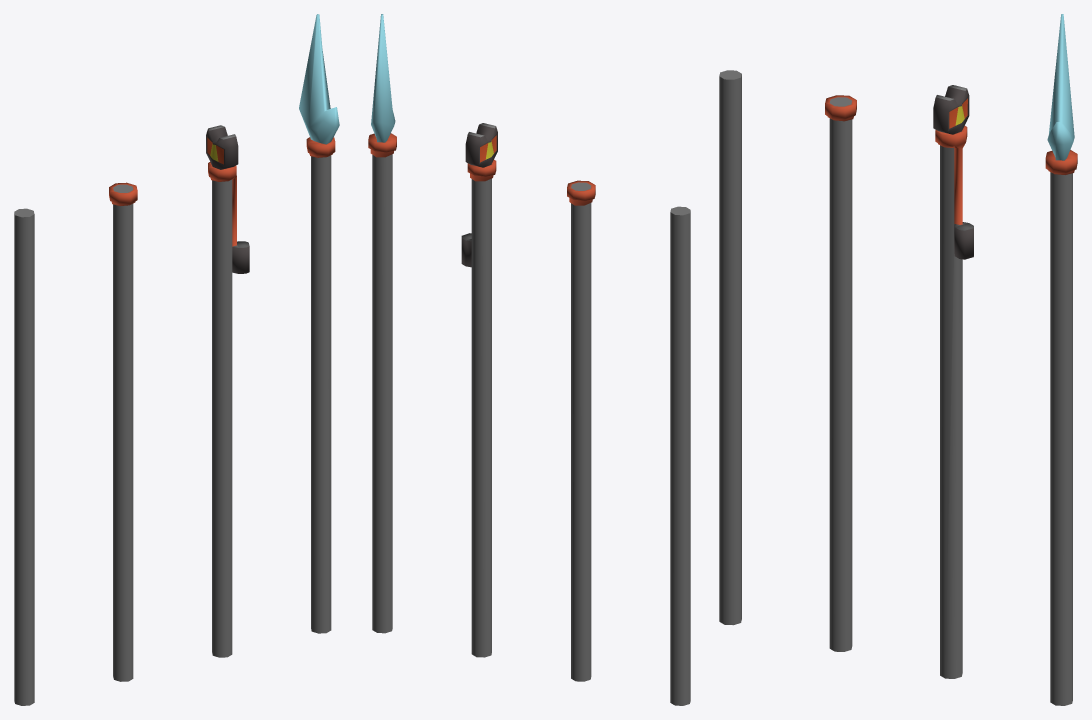
File: SteelRod&MakeshiftSpears.fbx
3 renders of one model, left to right at view 1: azimuth 30°, elevation 25°; view 2: azimuth 150°, elevation 25°; view 3: azimuth 330°, elevation 25°, orthographic. The views are drawn at different scales.
Parts seen in each view (by area): view 1: MakeshiftSpear, MakeshiftStunRod, SteelRod&Wire, SteelRod; view 2: MakeshiftSpear, MakeshiftStunRod, SteelRod&Wire, SteelRod; view 3: MakeshiftSpear, MakeshiftStunRod, SteelRod&Wire, SteelRod.
Boxes of the visible parts, box(x1,y1,x2,y2) form: MakeshiftSpear: box(299, 14, 339, 633); MakeshiftStunRod: box(206, 125, 249, 657); SteelRod&Wire: box(109, 182, 137, 681); SteelRod: box(14, 208, 34, 705); MakeshiftSpear: box(368, 14, 396, 633); MakeshiftStunRod: box(461, 123, 497, 657); SteelRod&Wire: box(567, 180, 595, 681); SteelRod: box(670, 206, 690, 705); MakeshiftSpear: box(1045, 14, 1077, 705); MakeshiftStunRod: box(933, 85, 973, 678); SteelRod&Wire: box(825, 95, 856, 651); SteelRod: box(719, 70, 741, 625).
Size of the model in its own units: 0.8071 by 1.48 by 0.0983.
